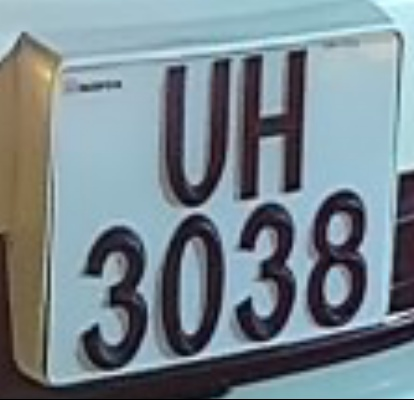0: (149, 206, 235, 367)
3: (63, 212, 159, 378), (223, 197, 308, 351)
8: (298, 182, 376, 336)
H: (230, 42, 319, 202)
U: (149, 51, 241, 213)
